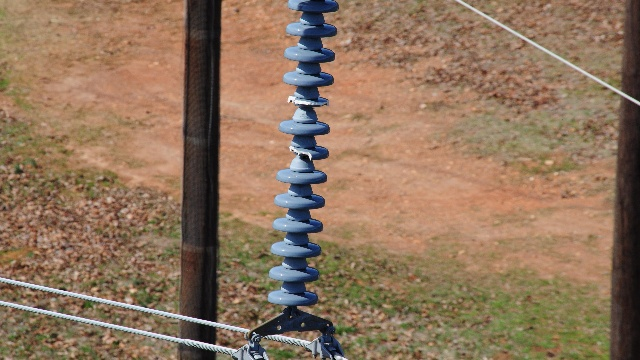broken_local: (288, 145, 315, 162), (285, 97, 331, 105)
insulator_unspecified: (266, 0, 339, 306)
